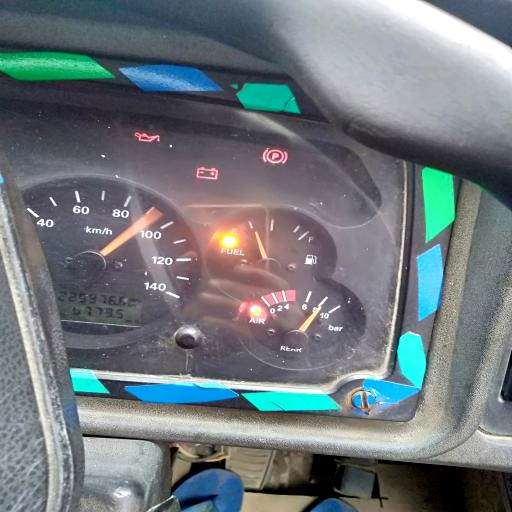oil: (134, 132, 160, 142)
vehicle_charging: (197, 166, 217, 181)
